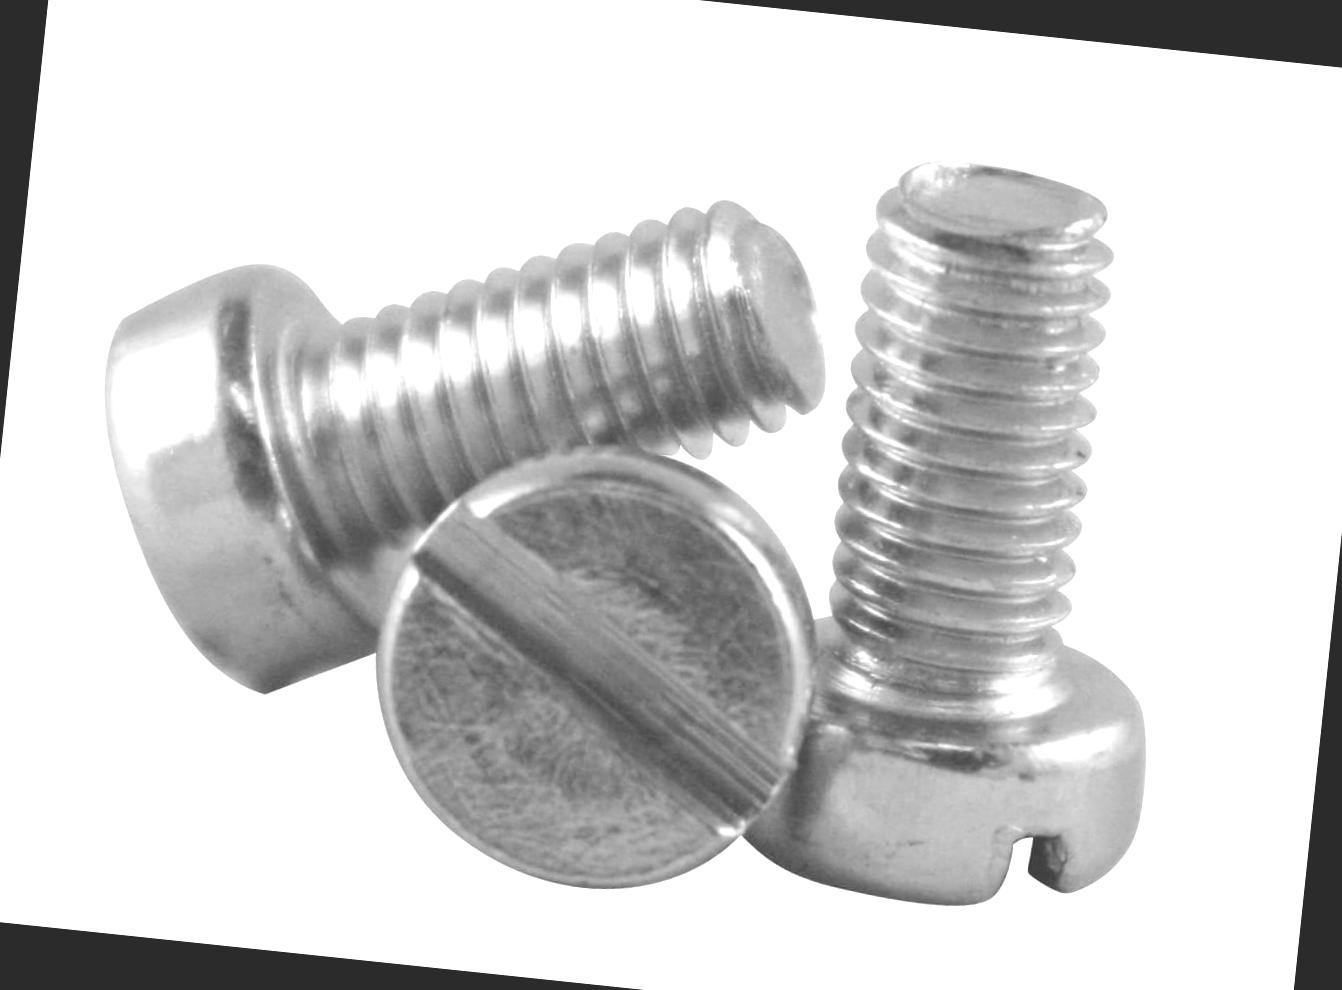slotted: (355, 427, 830, 919)
